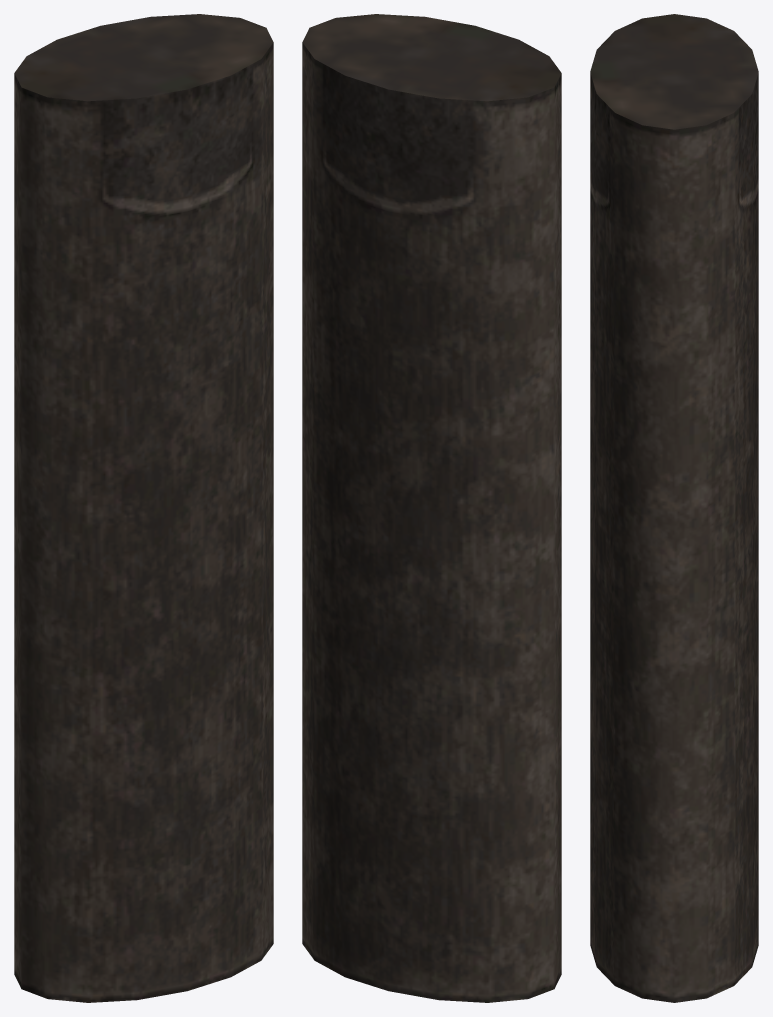
The model's file is sm_uruk_sword_handle_a2.fbx.
3 renders of one model, left to right at view 1: azimuth 30°, elevation 25°; view 2: azimuth 150°, elevation 25°; view 3: azimuth 270°, elevation 25°, orthographic. The views are drawn at different scales.
Parts seen in each view (by area): view 1: sm_uruk_sword_handle_a2; view 2: sm_uruk_sword_handle_a2; view 3: sm_uruk_sword_handle_a2.
Boxes of the visible parts, x1,y1,x2,y2 form: sm_uruk_sword_handle_a2: (14,14,273,1002); sm_uruk_sword_handle_a2: (302,14,561,1002); sm_uruk_sword_handle_a2: (590,14,758,1002).
Bounding box in the file's own units: 0.0587 × 0.0361 × 0.2063.
1 material, 1 textured.
